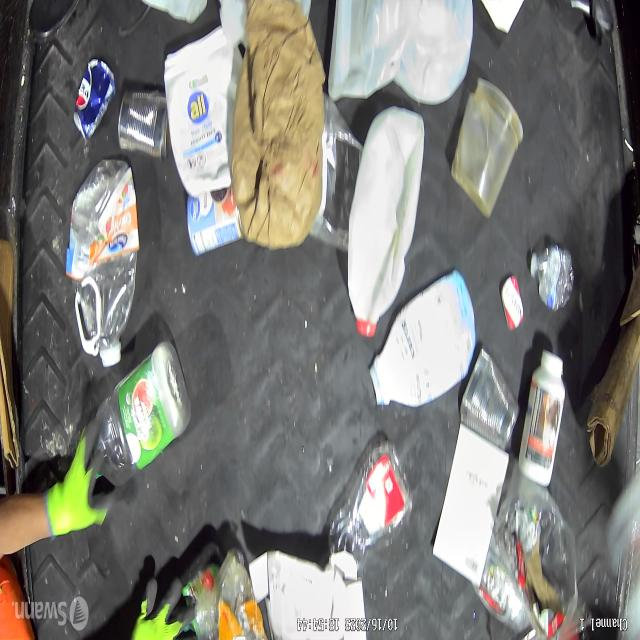can: (459, 347, 520, 450), (186, 185, 244, 256), (117, 88, 170, 161), (74, 60, 116, 144)
milk_jug: (347, 107, 425, 338), (327, 0, 474, 105), (369, 268, 476, 407)
plastic_bottle: (67, 158, 139, 367), (96, 342, 190, 485), (328, 441, 414, 578), (529, 244, 574, 310)
